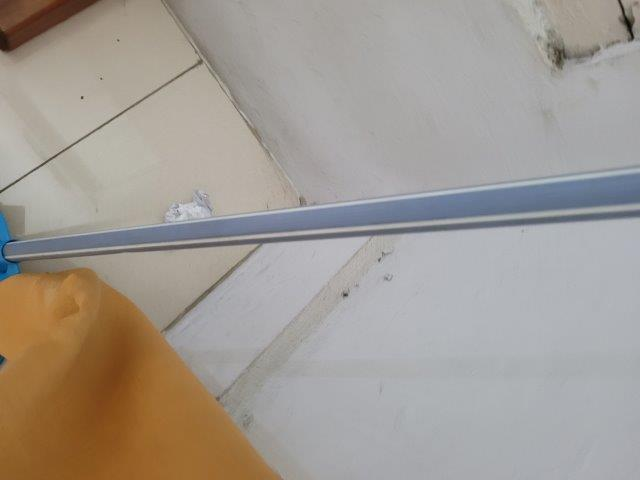kertas: (168, 193, 211, 223)
